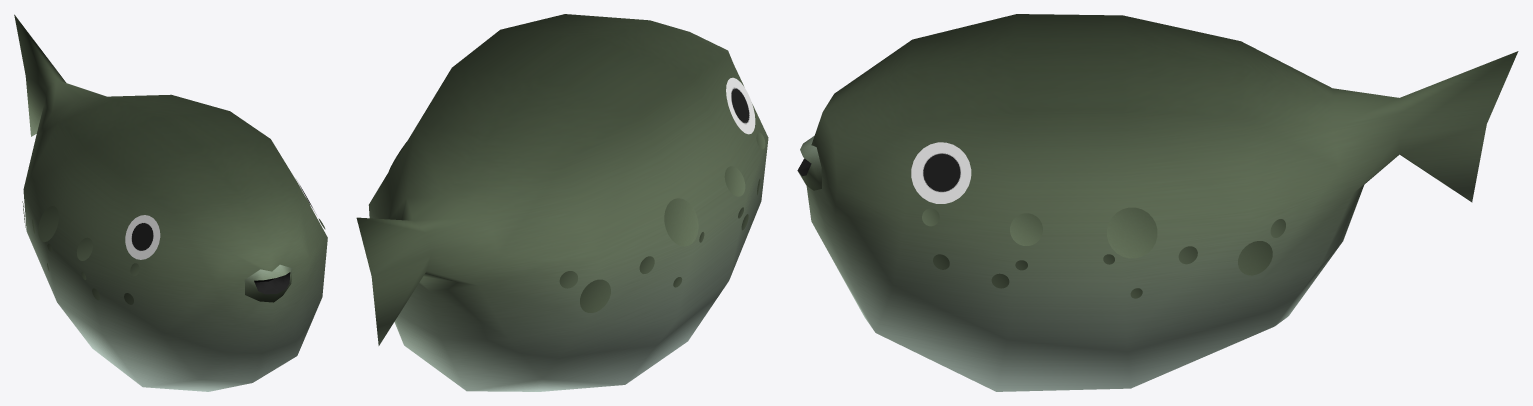
The model's file is hugu.fbx.
3 views of the same model, side by side, from view 1: azimuth 30°, elevation 25°; view 2: azimuth 150°, elevation 25°; view 3: azimuth 270°, elevation 25° (orthographic). The views are drawn at different scales.
Parts seen in each view (by area): view 1: hugu; view 2: hugu; view 3: hugu.
Part boxes in pixels (<box>): hugu: <box>14,14,327,391</box>; hugu: <box>356,14,768,391</box>; hugu: <box>797,14,1518,391</box>.
Size of the model in its own units: 76.12 by 75.61 by 152.
